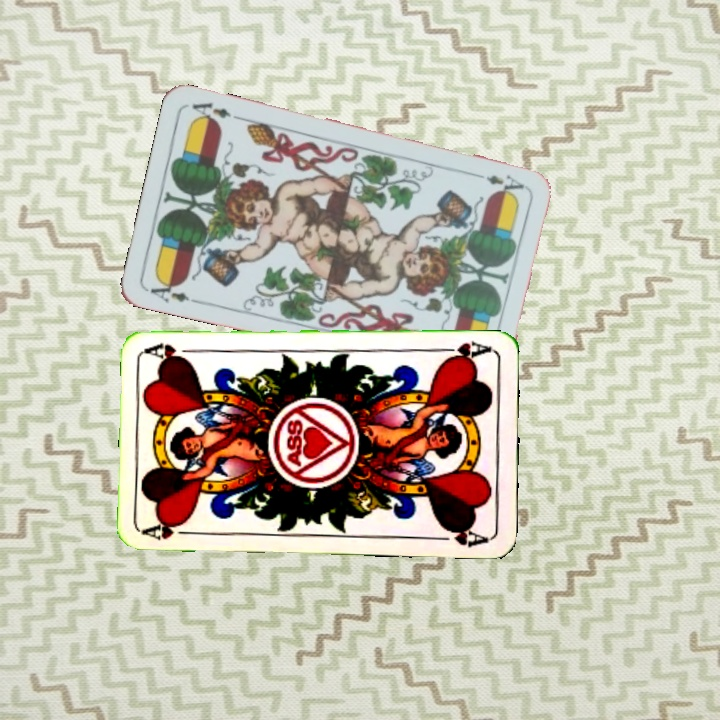EA: (146, 275, 203, 306), (468, 168, 527, 193)
HA: (435, 337, 495, 364), (141, 516, 200, 543)
